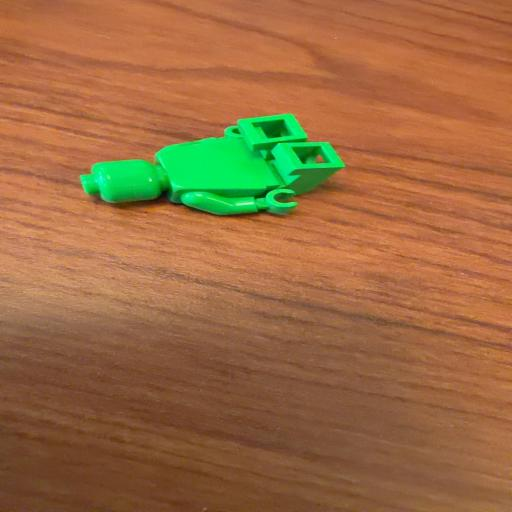UnoQ-minifig-detector: (81, 114, 344, 215)
